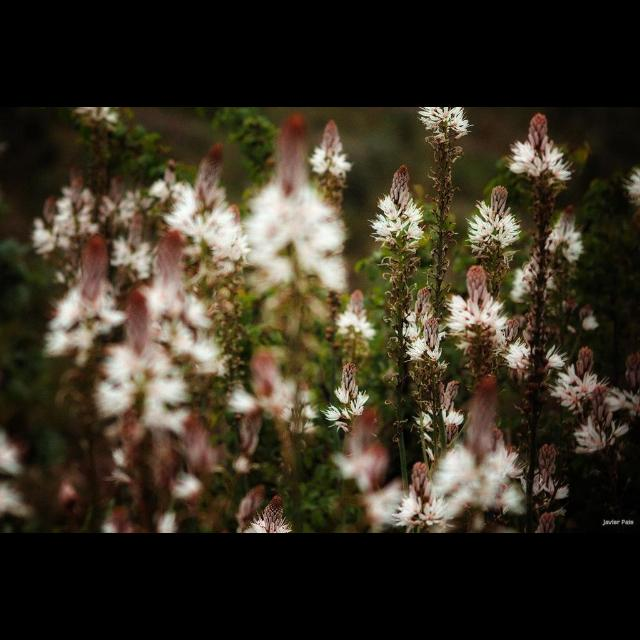Flower: (1, 108, 640, 532), (332, 366, 368, 436)
